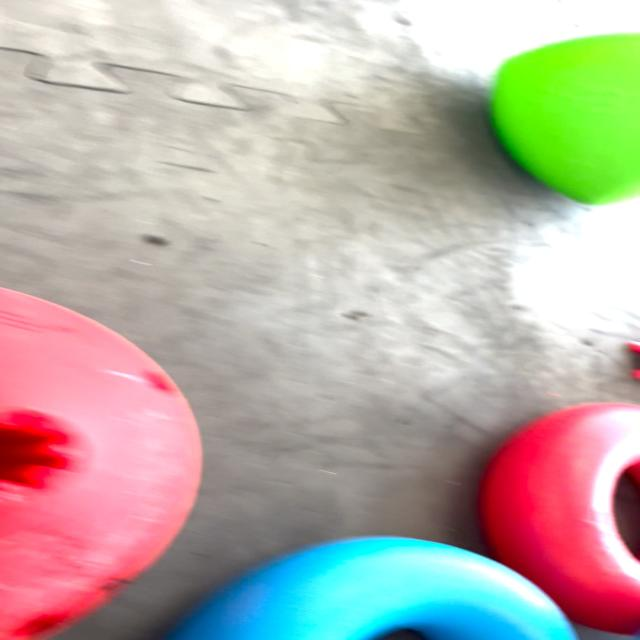Blue-Ring: (167, 538, 578, 640)
Red-Ring: (480, 402, 640, 634)
